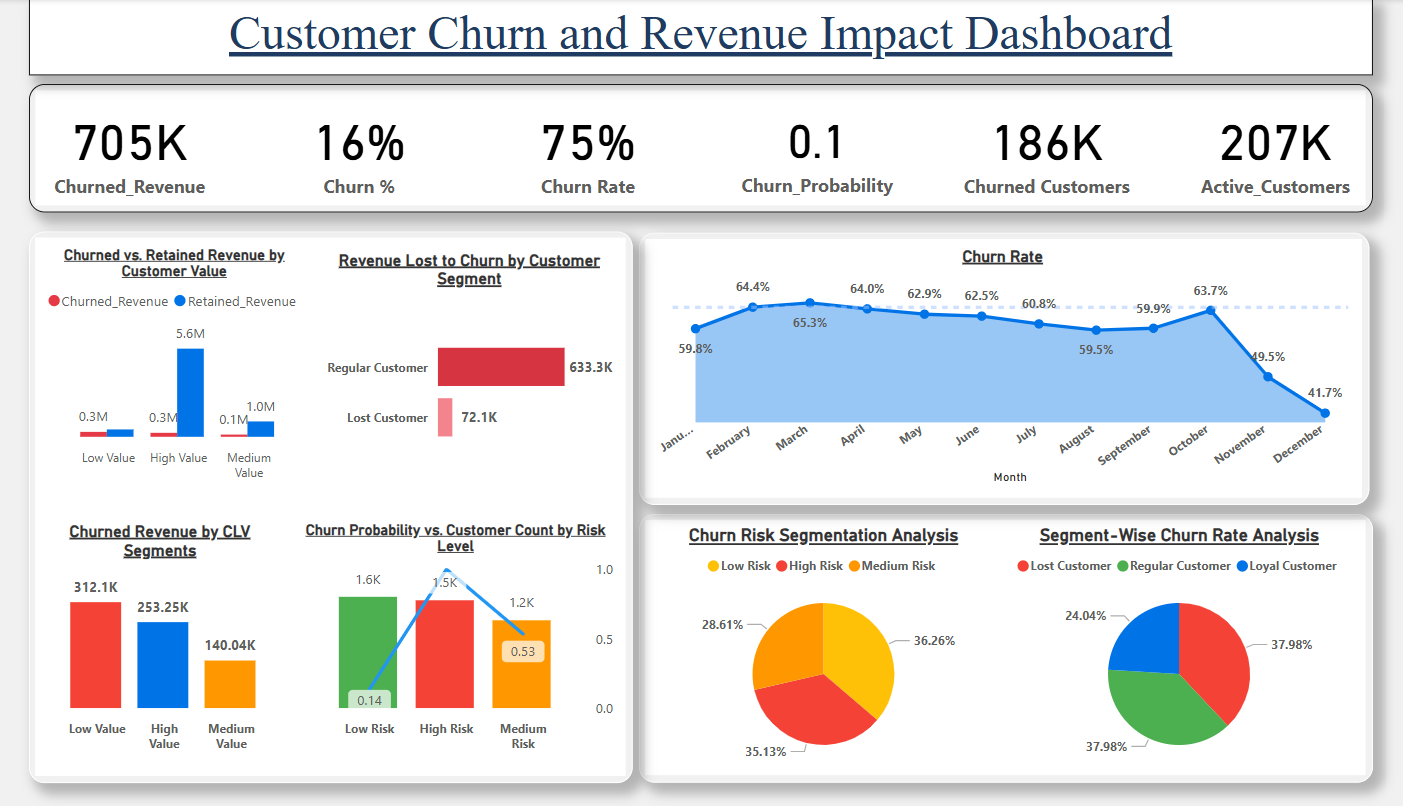

What the dashboard file says about the page in this screenshot:
{"tool":"powerbi","page":{"name":"Customer Churn and Revenue Impact Dashboard","canvas":[1280,720],"ordinal":2},"visuals":[{"type":"shape","box":[583.3,458.9,653.3,238.9],"z":0},{"type":"shape","box":[583.3,207.8,650,242.2],"z":1000},{"type":"shape","box":[40,206.7,537.8,491.1],"z":2000},{"type":"shape","box":[40,75.6,1196.7,114.4],"z":3000},{"type":"card","fields":{"Values":["Key Measures.Churn %"]},"box":[251.1,78.9,165.4,109.1],"z":3000,"group":"g1"},{"type":"card","fields":{"Values":["Key Measures.Churned_Revenue"]},"box":[47.8,78.9,164.2,109.1],"z":4000,"group":"g1"},{"type":"barChart","title":" Revenue Lost to Churn by Customer Segment","fields":{"Category":["public rfm_scores.customer_segment"],"Y":["Key Measures.Churned_Revenue"]},"box":[300,223.3,265.6,213.3],"z":4000},{"type":"columnChart","title":"Churned Revenue by CLV Segments","fields":{"Y":["Key Measures.Churned_Revenue"],"Category":["public rfm_scores.CLV_Category"]},"box":[40,465.6,233.3,213.3],"z":5000},{"type":"pieChart","title":"Churn Risk Segmentation Analysis","fields":{"Category":["public rfm_scores.Churn_Risk_Category"],"Y":["CountNonNull(public rfm_scores.customerid)"]},"box":[594.4,468.9,306.7,220],"z":6000},{"type":"clusteredColumnChart","title":" Churned vs. Retained Revenue by Customer Value","fields":{"Y":["Key Measures.Churned_Revenue","Key Measures.Retained_Revenue"],"Category":["public rfm_scores.CLV_Category"]},"box":[47.8,220,243.3,216.7],"z":7000},{"type":"card","fields":{"Values":["Key Measures.Active_Customers"]},"box":[1067.7,78.9,165.4,109.1],"z":8000,"group":"g1"},{"type":"lineStackedColumnComboChart","title":" Churn Probability vs. Customer Count by Risk Level","fields":{"Category":["public rfm_scores.Churn_Risk_Category"],"Y":["CountNonNull(public rfm_scores.customerid)"],"Y2":["Key Measures.Churn_Probability"]},"box":[273.3,465.6,292.2,213.3],"z":8000},{"type":"card","fields":{"Values":["Key Measures.CC"]},"box":[863.3,78.9,165.4,109.1],"z":9000,"group":"g1"},{"type":"lineChart","title":"Churn Rate","fields":{"Y":["Key Measures.Churn Rate"],"Category":["DateTable.Date.Variation.Date Hierarchy.Month"]},"box":[594.4,220,625.6,216.7],"z":9000},{"type":"pieChart","title":"Segment-Wise Churn Rate Analysis","fields":{"Y":["Key Measures.Churn Rate"],"Category":["public rfm_scores.customer_segment"]},"box":[910,468.9,310,220],"z":10000},{"type":"textbox","box":[40.1,0,1196.7,67.9],"z":11000},{"type":"card","fields":{"Values":["Key Measures.Churn_Probability"]},"box":[660,78.9,164.2,109.1],"z":11000,"group":"g1"},{"type":"group","id":"g1","title":"Group 1","box":[47.8,78.9,1184.4,108.9],"z":12000},{"type":"card","fields":{"Values":["Key Measures.Churn Rate"]},"box":[455.5,78.9,165.4,109.1],"z":13000,"group":"g1"}]}

Visuals, with their boxes in screenshot pixels (x1, y1, x2, y2), scaled from the page's 1280x720 canvas onto the 1403x806 screenshot:
shape: bbox(639, 514, 1355, 781)
shape: bbox(639, 233, 1352, 504)
shape: bbox(44, 231, 633, 781)
shape: bbox(44, 85, 1356, 213)
card - Key Measures.Churn %: bbox(275, 88, 457, 210)
card - Key Measures.Churned_Revenue: bbox(52, 88, 232, 210)
" Revenue Lost to Churn by Customer Segment" barChart: bbox(329, 250, 620, 489)
"Churned Revenue by CLV Segments" columnChart: bbox(44, 521, 300, 760)
"Churn Risk Segmentation Analysis" pieChart: bbox(652, 525, 988, 771)
" Churned vs. Retained Revenue by Customer Value" clusteredColumnChart: bbox(52, 246, 319, 489)
card - Key Measures.Active_Customers: bbox(1170, 88, 1352, 210)
" Churn Probability vs. Customer Count by Risk Level" lineStackedColumnComboChart: bbox(300, 521, 620, 760)
card - Key Measures.CC: bbox(946, 88, 1128, 210)
"Churn Rate" lineChart: bbox(652, 246, 1337, 489)
"Segment-Wise Churn Rate Analysis" pieChart: bbox(997, 525, 1337, 771)
textbox: bbox(44, 0, 1356, 76)
card - Key Measures.Churn_Probability: bbox(723, 88, 903, 210)
"Group 1" group: bbox(52, 88, 1351, 210)
card - Key Measures.Churn Rate: bbox(499, 88, 681, 210)
